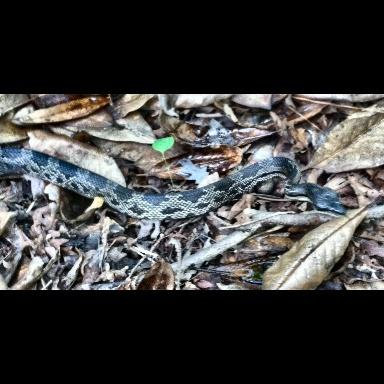snake: (0, 145, 346, 220)
